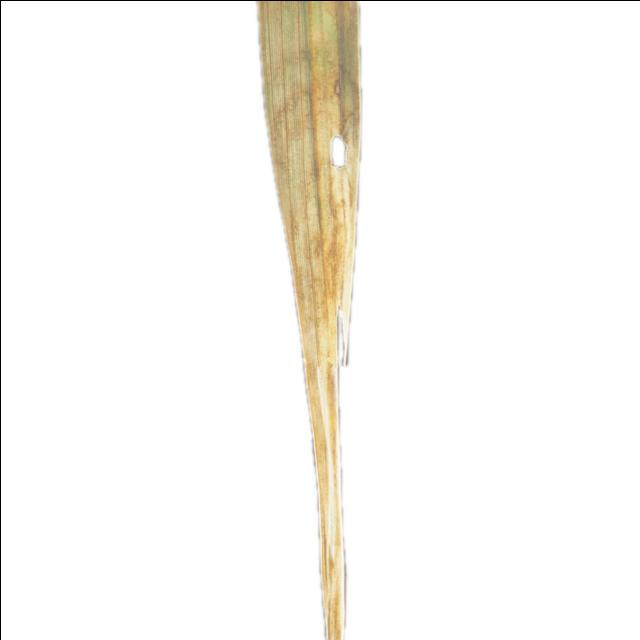Leaf scald: (202, 0, 488, 640)
